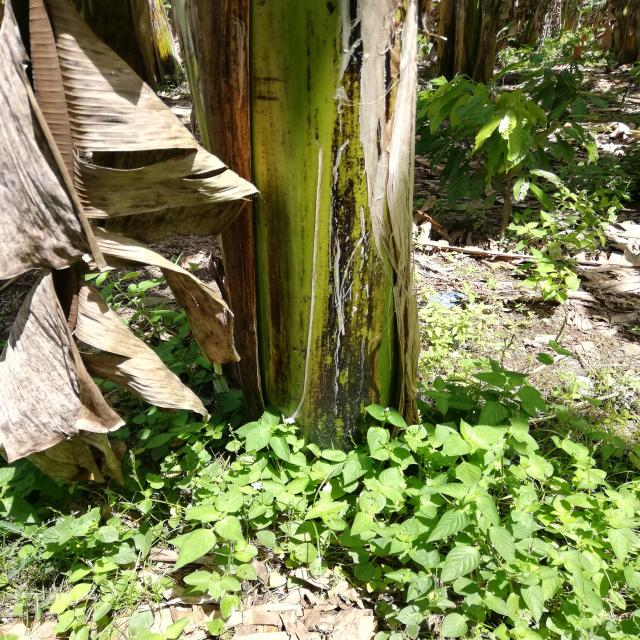Banana-plant: (172, 8, 432, 450)
